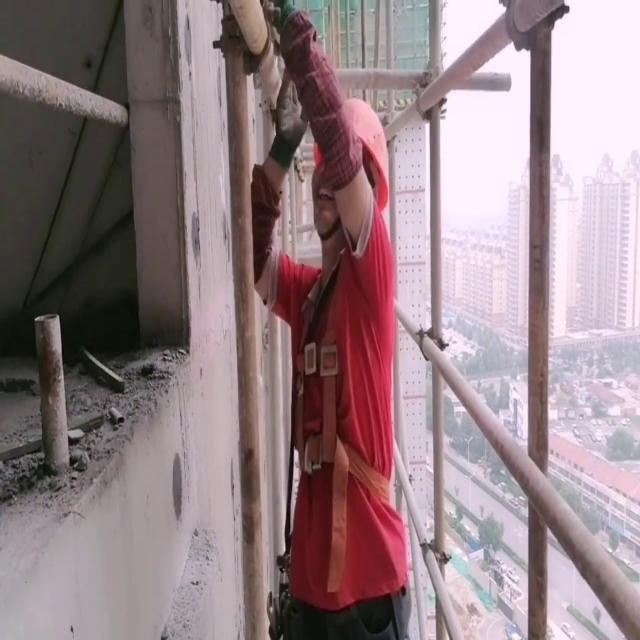Arnes_seguridad: (286, 236, 400, 518)
